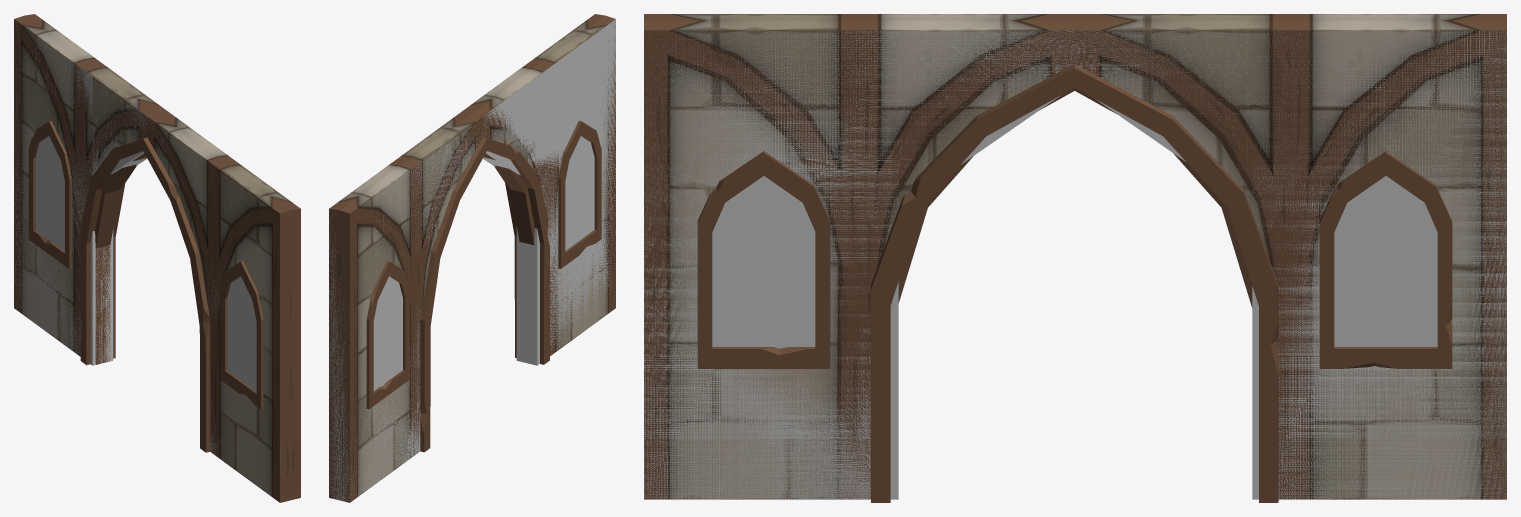
Rendered from SM_Bld_Wall_Doorway_Double_01.fbx.
3 renders of one model, left to right at view 1: azimuth 30°, elevation 25°; view 2: azimuth 150°, elevation 25°; view 3: azimuth 270°, elevation 25°, orthographic. The views are drawn at different scales.
Visible parts, largest first — view 1: SM_Bld_Wall_Doorway_Double_01, SM_Bld_Wall_Doorway_Double_01_ConvexHulls; view 2: SM_Bld_Wall_Doorway_Double_01, SM_Bld_Wall_Doorway_Double_01_ConvexHulls; view 3: SM_Bld_Wall_Doorway_Double_01, SM_Bld_Wall_Doorway_Double_01_ConvexHulls.
Boxes of the visible parts, box(x1,y1,x2,y2) form: SM_Bld_Wall_Doorway_Double_01: box(14, 14, 300, 502); SM_Bld_Wall_Doorway_Double_01_ConvexHulls: box(14, 20, 256, 456); SM_Bld_Wall_Doorway_Double_01: box(329, 14, 615, 502); SM_Bld_Wall_Doorway_Double_01_ConvexHulls: box(329, 19, 615, 502); SM_Bld_Wall_Doorway_Double_01: box(644, 14, 1506, 502); SM_Bld_Wall_Doorway_Double_01_ConvexHulls: box(644, 30, 1506, 499).
Size of the model in its own units: 32.01 by 500 by 301.
3 materials, 2 textured.
